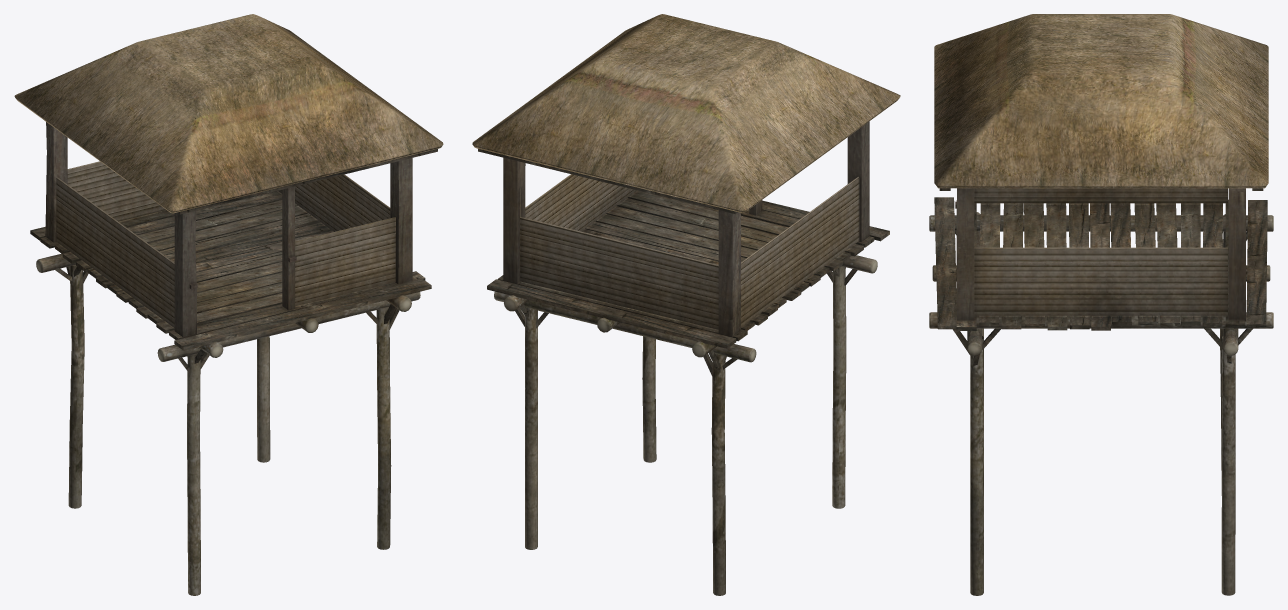
The model's file is vh_palisade.glb.
3 views of the same model, side by side, from view 1: azimuth 30°, elevation 25°; view 2: azimuth 150°, elevation 25°; view 3: azimuth 270°, elevation 25° (orthographic). The views are drawn at different scales.
Visible parts, largest first — view 1: fortification; view 2: fortification; view 3: fortification.
Part boxes in pixels (x1,y1,x2,y2): fortification: [14, 14, 443, 595]; fortification: [472, 14, 900, 595]; fortification: [929, 14, 1273, 595].
Size of the model in its own units: 4.62 by 7.64 by 4.76.
1 material, 1 textured.
